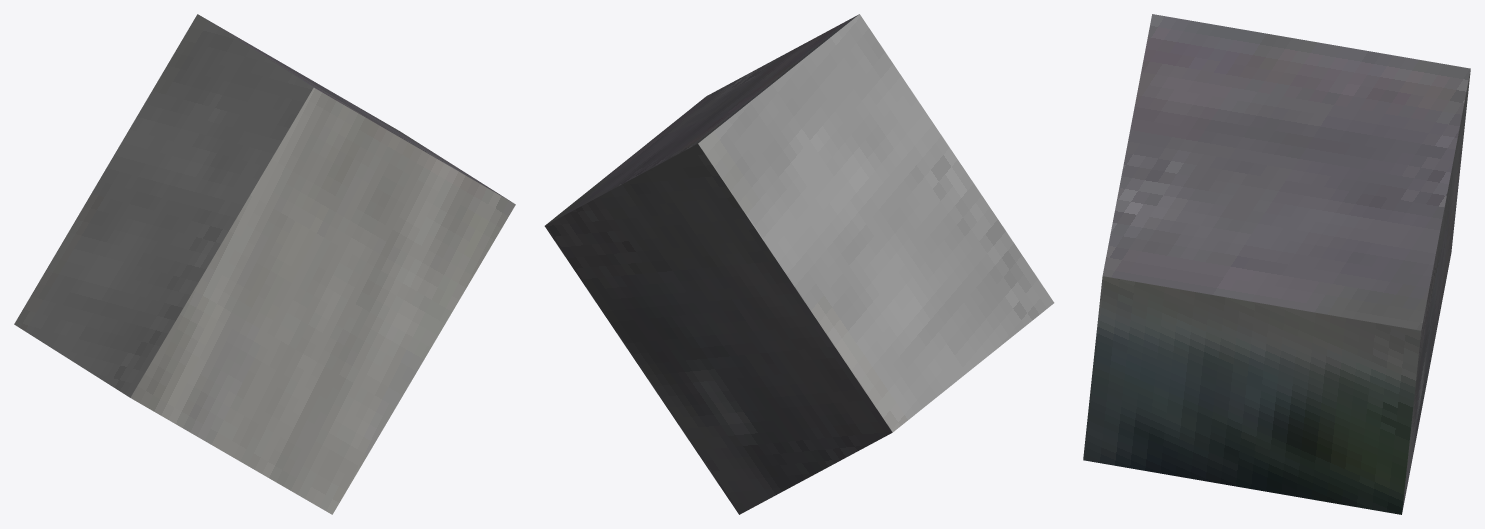
3 renders of one model, left to right at view 1: azimuth 30°, elevation 25°; view 2: azimuth 150°, elevation 25°; view 3: azimuth 270°, elevation 25°, orthographic. The views are drawn at different scales.
Parts seen in each view (by area): view 1: BAG_0599100010066770; view 2: BAG_0599100010066770; view 3: BAG_0599100010066770.
Boxes of the visible parts, box(x1,y1,x2,y2) form: BAG_0599100010066770: box(14, 14, 515, 514); BAG_0599100010066770: box(544, 14, 1054, 514); BAG_0599100010066770: box(1083, 14, 1470, 514).
Bounding box in the file's own units: 4.02 × 4.23 × 3.01.
Materials: 2 (1 with a texture image).
